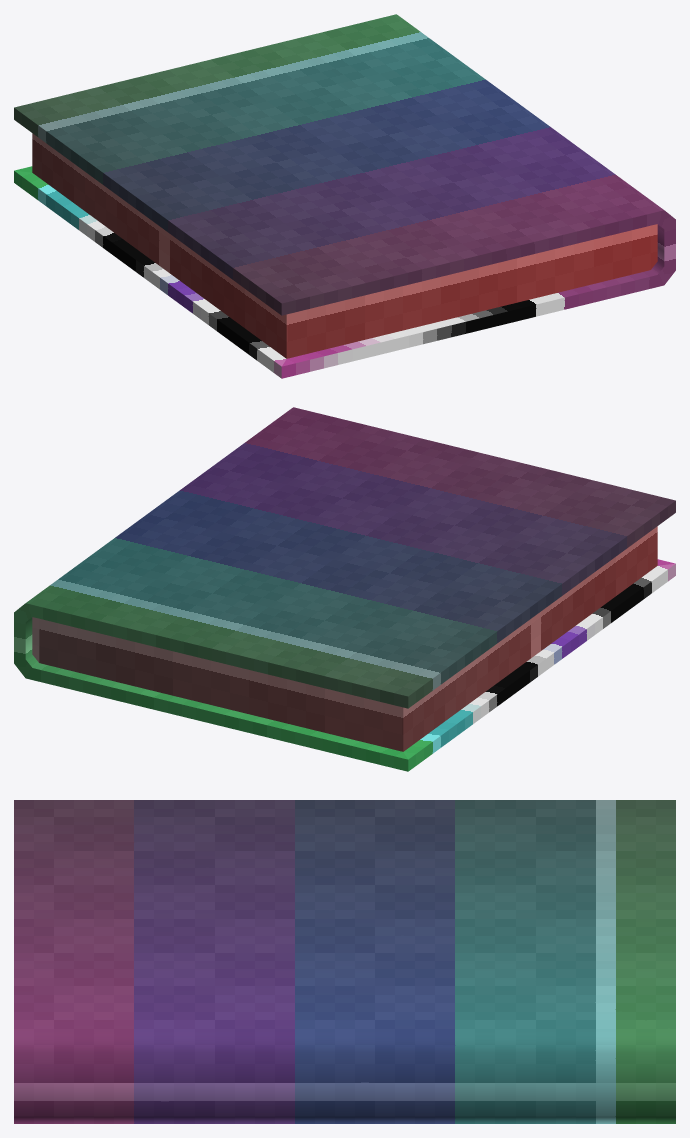
Rendered from book_pickup_01_sm.glb.
3 renders of one model, top to bottom at view 1: azimuth 30°, elevation 25°; view 2: azimuth 150°, elevation 25°; view 3: azimuth 270°, elevation 25°, orthographic. The views are drawn at different scales.
Parts seen in each view (by area): view 1: book_pickup_mesh.001; view 2: book_pickup_mesh.001; view 3: book_pickup_mesh.001.
Boxes of the visible parts, bbox=[...] form: book_pickup_mesh.001: bbox=[14, 14, 675, 378]; book_pickup_mesh.001: bbox=[14, 407, 675, 771]; book_pickup_mesh.001: bbox=[14, 800, 675, 1123].
Bounding box in the file's own units: 0.407 × 0.0742 × 0.4789.
1 material, 1 textured.
